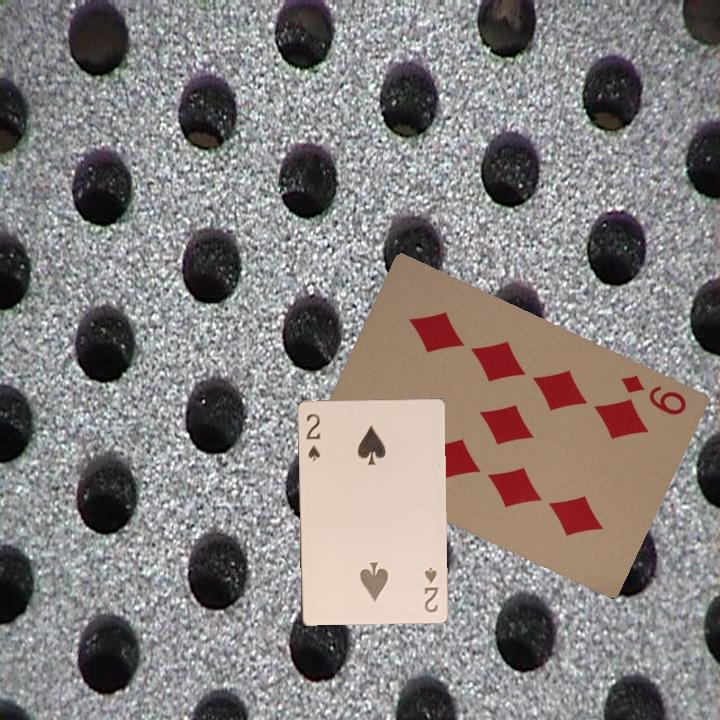2s: (302, 410, 323, 461), (420, 563, 440, 615)
9d: (617, 371, 689, 418)
